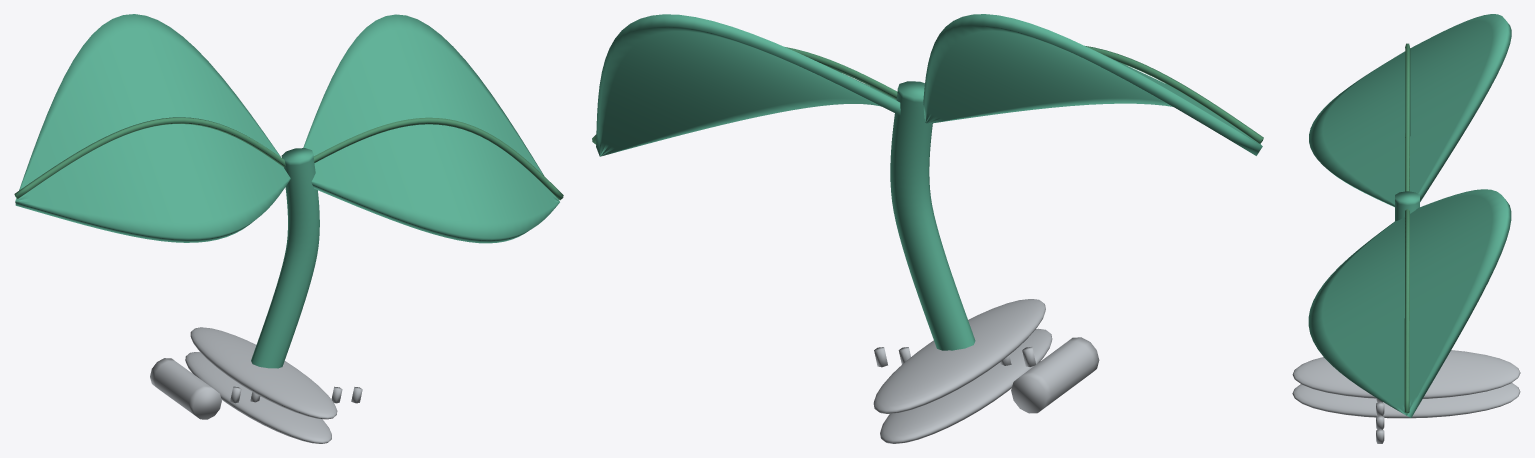
The model's file is Feminine-twin-braids-pashmina250-sprout.glb.
The picture shows the model from 3 angles, left to right: view 1: azimuth 30°, elevation 25°; view 2: azimuth 150°, elevation 25°; view 3: azimuth 270°, elevation 25°; orthographic projection. The views are drawn at different scales.
Parts seen in each view (by area): view 1: 226 extra / Accessory / mint226, 226 extra / Sprout / clip silver235, 226 extra / Sprout / leaf vein235; view 2: 226 extra / Accessory / mint226, 226 extra / Sprout / clip silver235, 226 extra / Sprout / leaf vein235; view 3: 226 extra / Accessory / mint226, 226 extra / Sprout / clip silver235, 226 extra / Sprout / leaf vein235.
Boxes of the visible parts, x1,y1,x2,y2 form: 226 extra / Accessory / mint226: [15, 14, 559, 368]; 226 extra / Sprout / clip silver235: [150, 327, 362, 443]; 226 extra / Sprout / leaf vein235: [14, 117, 563, 200]; 226 extra / Accessory / mint226: [596, 14, 1262, 350]; 226 extra / Sprout / clip silver235: [873, 299, 1099, 443]; 226 extra / Sprout / leaf vein235: [592, 46, 1263, 144]; 226 extra / Accessory / mint226: [1308, 14, 1511, 417]; 226 extra / Sprout / clip silver235: [1292, 350, 1520, 443]; 226 extra / Sprout / leaf vein235: [1404, 43, 1410, 413].
Size of the model in its own units: 0.2645 by 0.1738 by 0.104.
